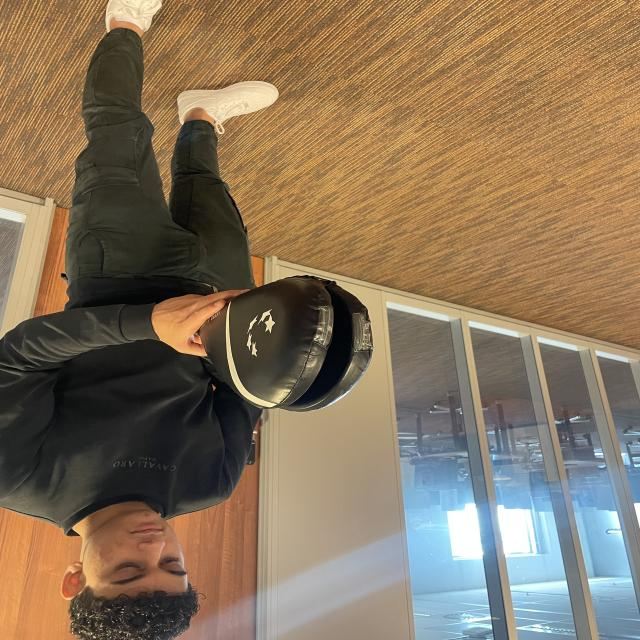paddle: (199, 279, 375, 412)
